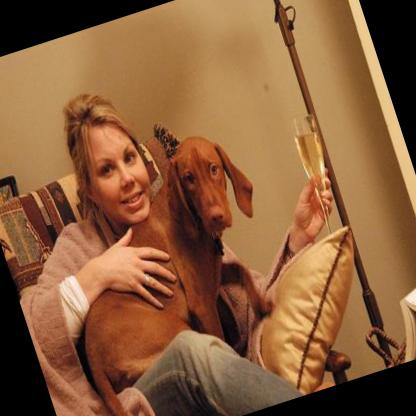vizsla: (29, 121, 314, 416)
